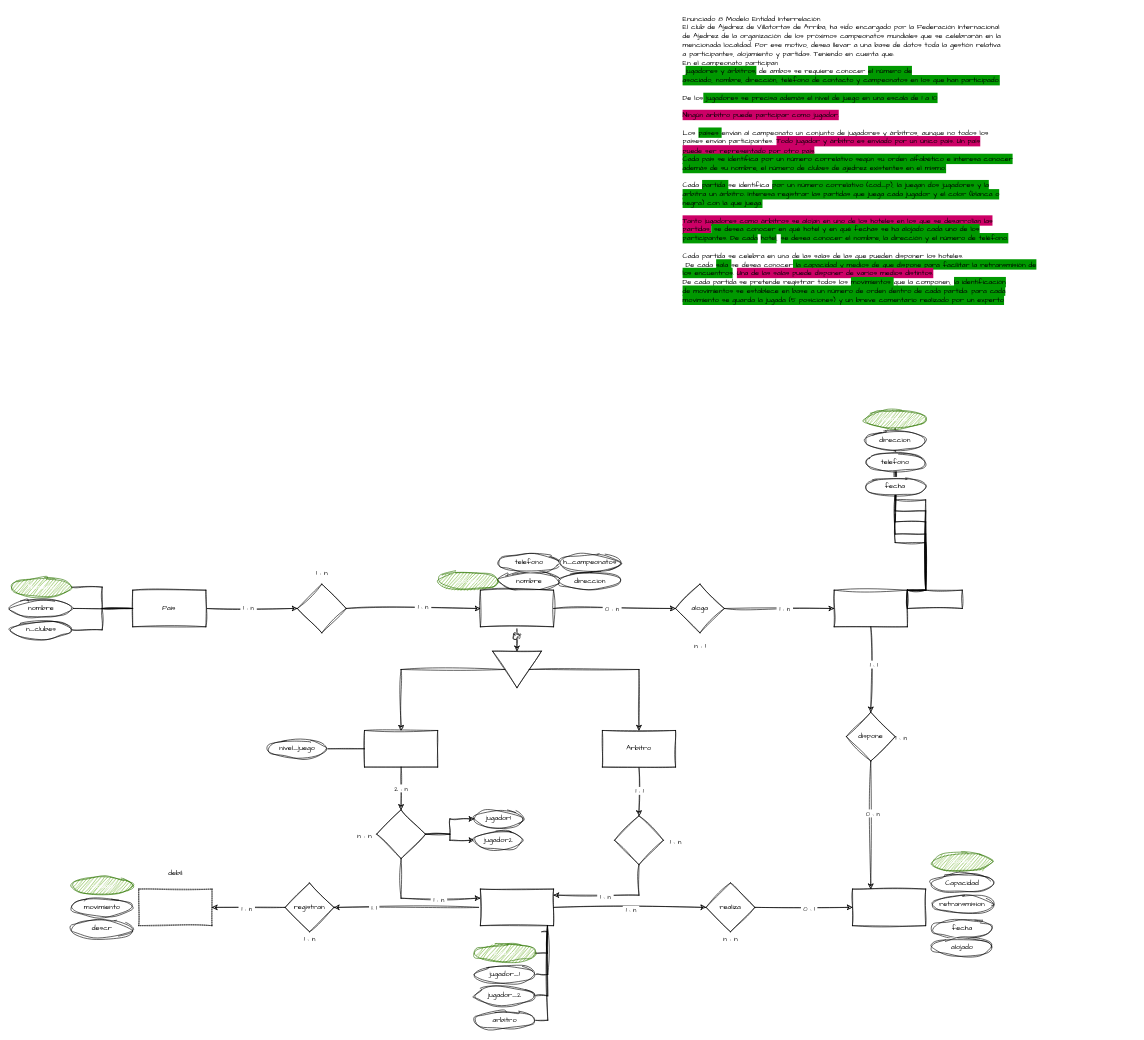
The diagram is 1144 pixels wide and 1040 high, and some of its shapes have lost their labels. Here are the shapes that lost their labels. From the top down, the centre of each, then its label:
At [321,608]: "envian".
At [517,608]: "Participantes".
At [870,608]: "Hotel".
At [401,748]: "Jugador".
At [400,834]: "juegan".
At [638,840]: "arbitra".
At [175,907]: "movimientos".
At [517,907]: "Partida".
At [889,907]: "Sala".
